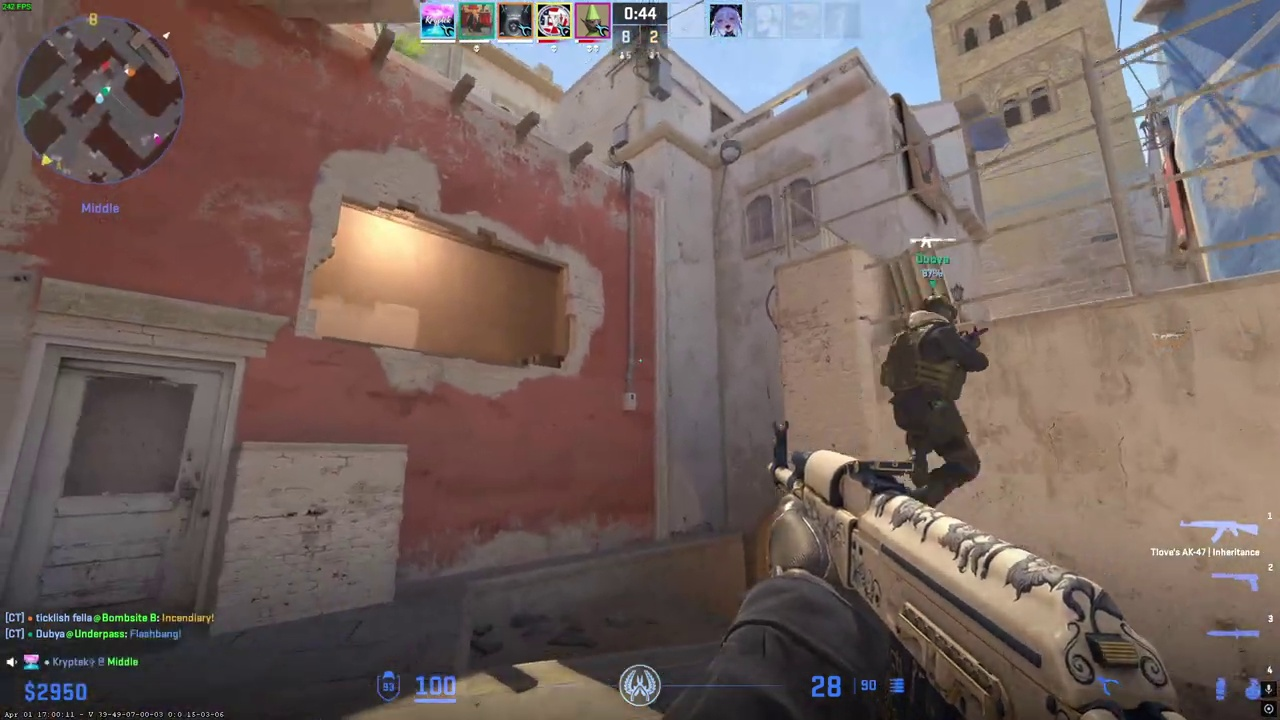CT: (887, 292, 989, 508)
